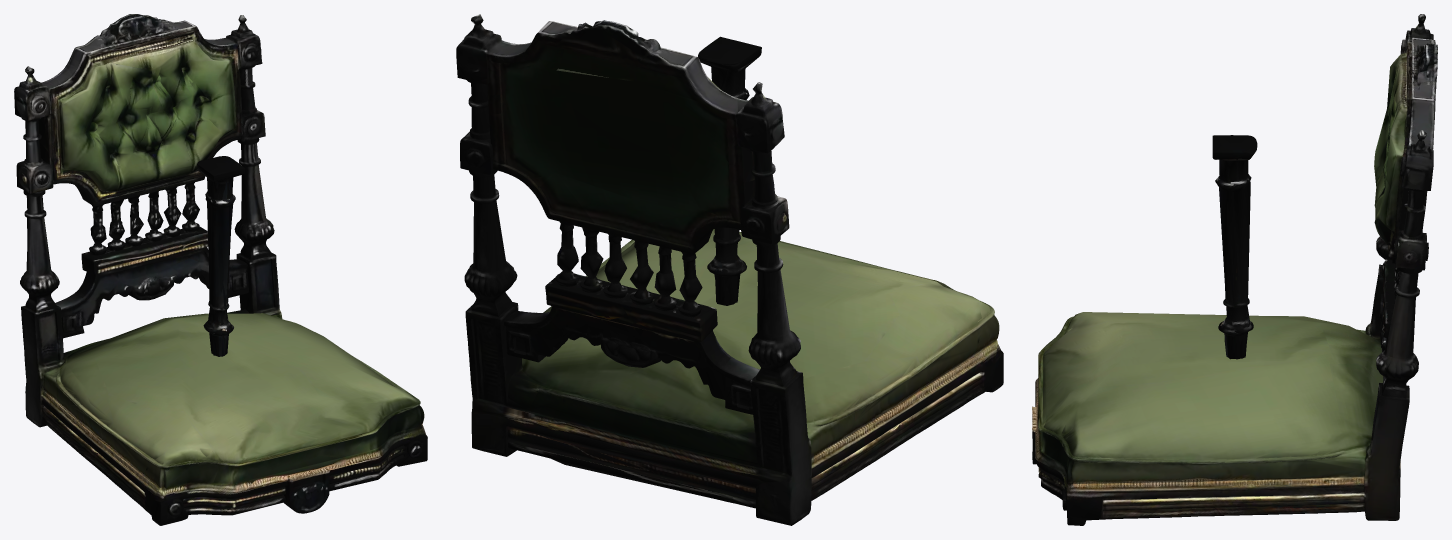
3 views of the same model, side by side, from view 1: azimuth 30°, elevation 25°; view 2: azimuth 150°, elevation 25°; view 3: azimuth 270°, elevation 25° (orthographic). The views are drawn at different scales.
Parts seen in each view (by area): view 1: root.0, root.1, root.2, root.3; view 2: root.0, root.3, root.2, root.4, root.1; view 3: root.0, root.2, root.4, root.1.
Boxes of the visible parts, left/top/right/bottom form: root.0: left=14, top=14, right=427, bottom=525; root.1: left=197, top=156, right=244, bottom=356; root.2: left=197, top=156, right=245, bottom=356; root.3: left=198, top=169, right=226, bottom=353; root.0: left=456, top=14, right=1003, bottom=525; root.3: left=713, top=60, right=753, bottom=304; root.2: left=698, top=36, right=761, bottom=302; root.4: left=700, top=62, right=742, bottom=305; root.1: left=699, top=47, right=761, bottom=290; root.0: left=1032, top=14, right=1437, bottom=525; root.2: left=1212, top=135, right=1257, bottom=359; root.4: left=1221, top=158, right=1253, bottom=358; root.1: left=1215, top=141, right=1256, bottom=359.
Size of the model in its own units: 15303 by 20049 by 17880.
Materials: 1 (1 with a texture image).
